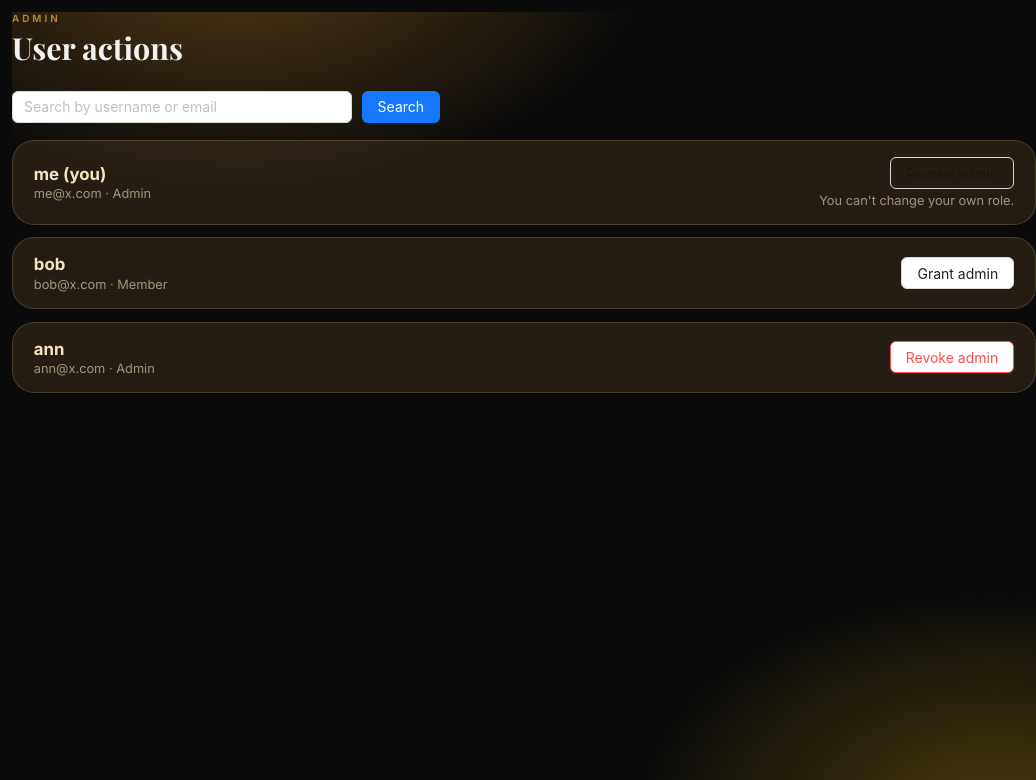
Test: AdminUserActions › revoke confirmed; server refusal (last admin) is shown
Click the button "Revoke admin" in the row of "ann@x.com".
click(952, 357)  # box [890, 341, 1014, 373]
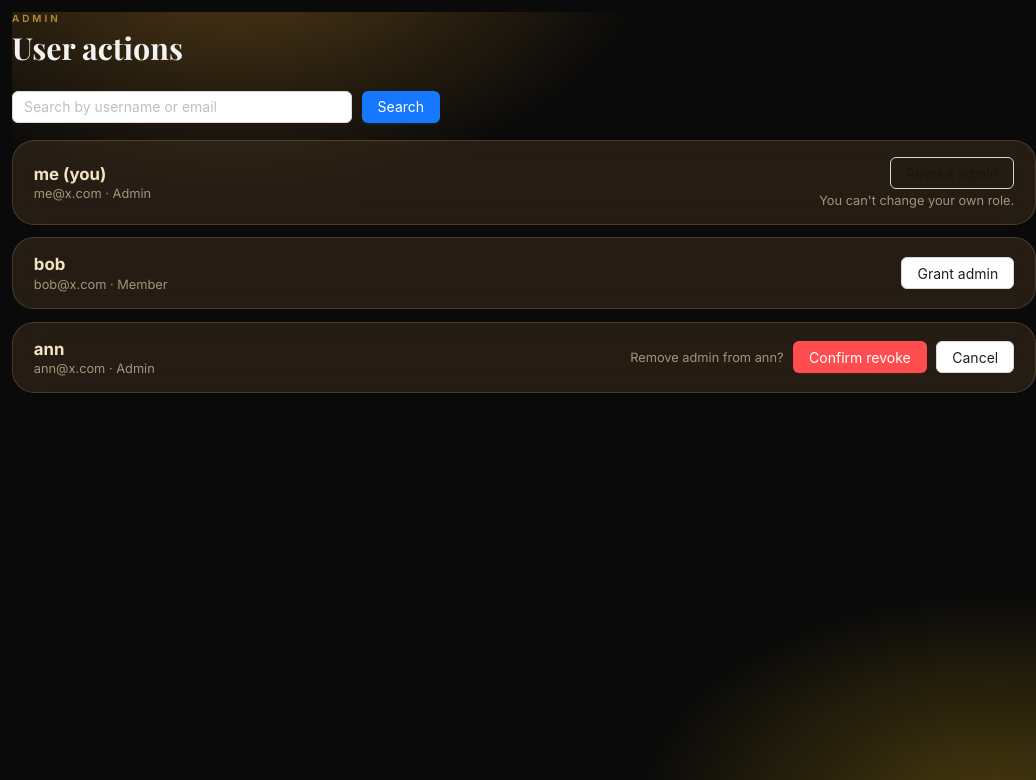
Click the button "Confirm revoke".
click(860, 357)  # box [793, 341, 927, 373]
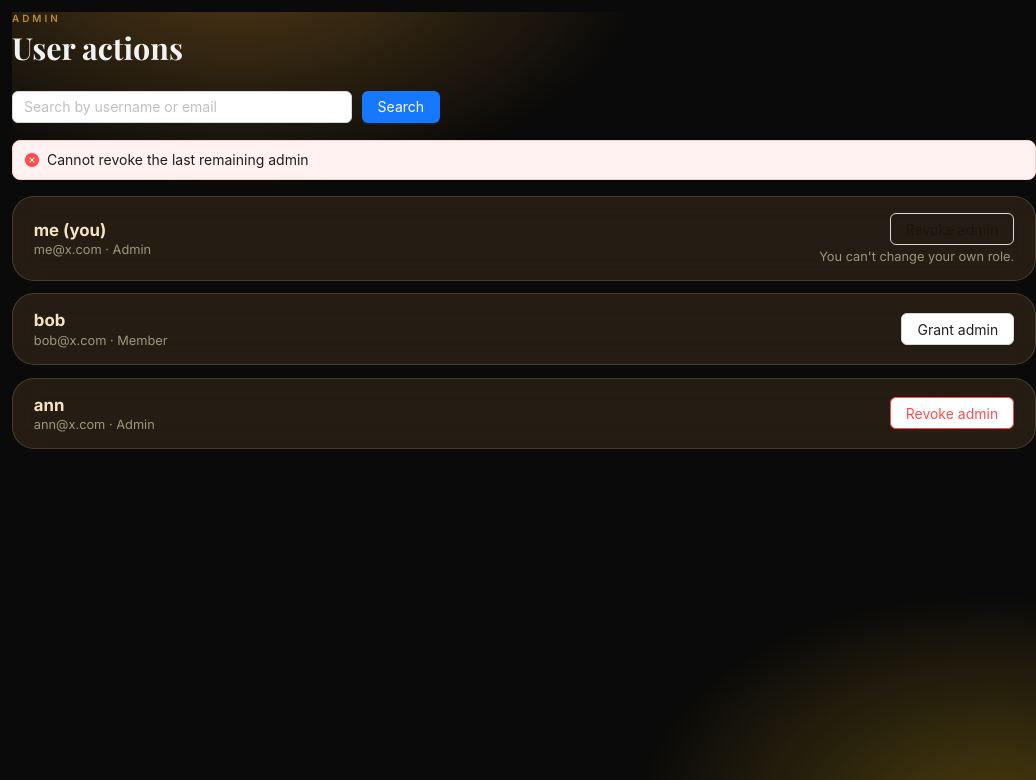
Result: the text "Cannot revoke the last remaining admin" is shown at [47, 152, 309, 168]
